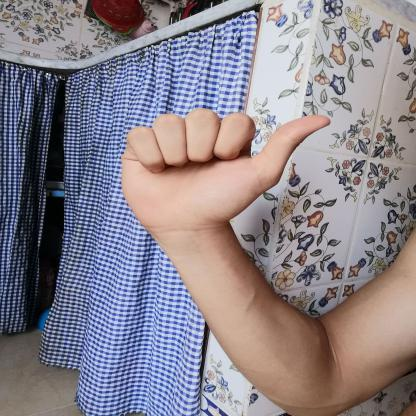DAD: (109, 100, 344, 240)
